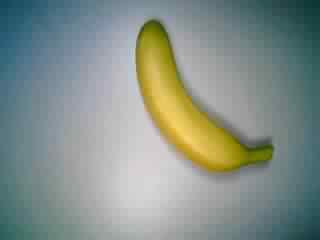banana: (133, 16, 281, 181)
